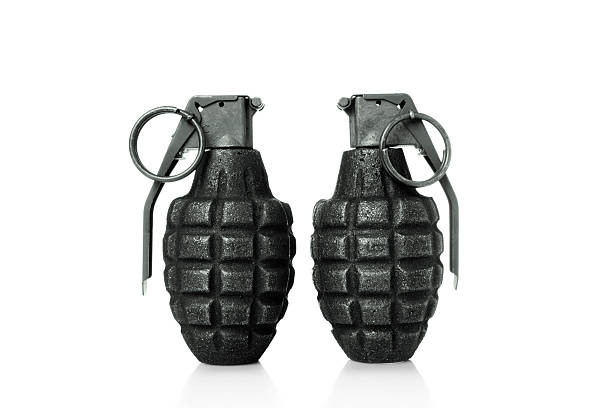e1: (128, 95, 297, 367), (310, 92, 461, 365)
